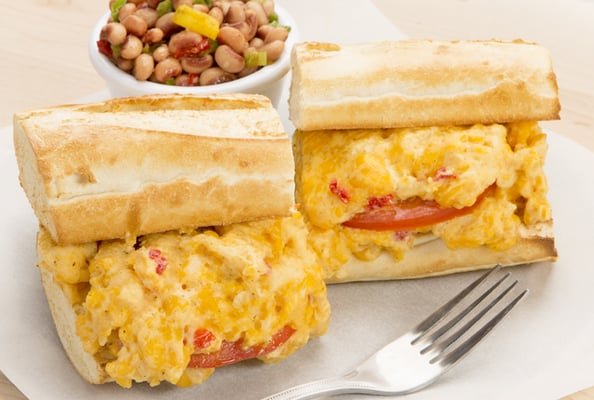burger: (277, 266, 529, 396)
soup: (14, 92, 333, 389), (290, 35, 559, 276), (291, 114, 558, 276)
sushi: (88, 1, 300, 100)
